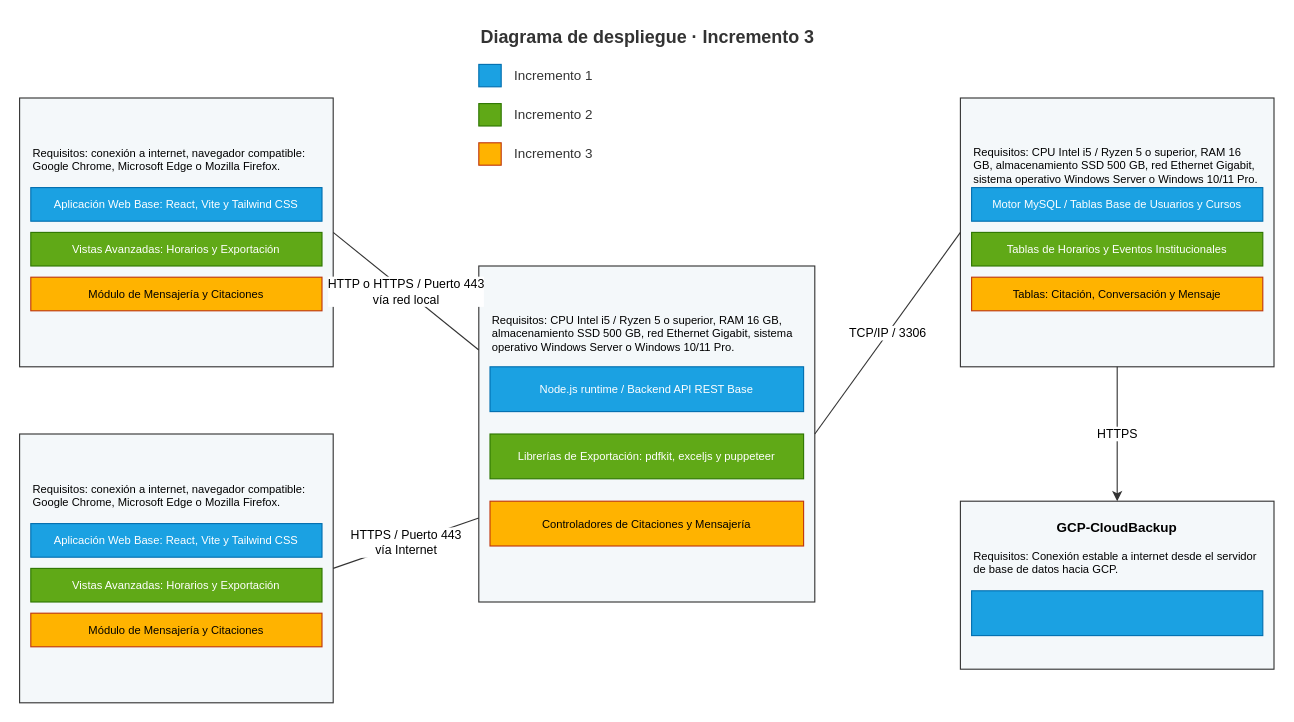
The diagram is 1294 pixels wide and 722 high, and some of its shapes have lost their labels. The shapes that lost their labels are listed below. From the top down, each one's box as (x1, y1, x2, y2) in pixels, then its label:
(18, 97, 333, 367): Usuario interno
(959, 97, 1274, 367): DBServer01
(478, 265, 815, 602): AppServer01
(18, 433, 333, 703): Usuario externo
(970, 590, 1263, 636): Google Cloud Storage: almacenamiento de respaldos
